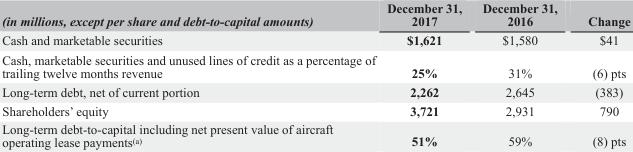table: (1, 0, 629, 149)
table column: (1, 0, 380, 149), (471, 0, 572, 149), (380, 0, 471, 149), (572, 0, 629, 149)
table column header: (1, 0, 629, 30)
table row: (1, 49, 629, 81), (1, 0, 629, 30), (1, 120, 629, 149), (1, 81, 629, 101), (1, 30, 629, 49), (1, 101, 629, 120)
